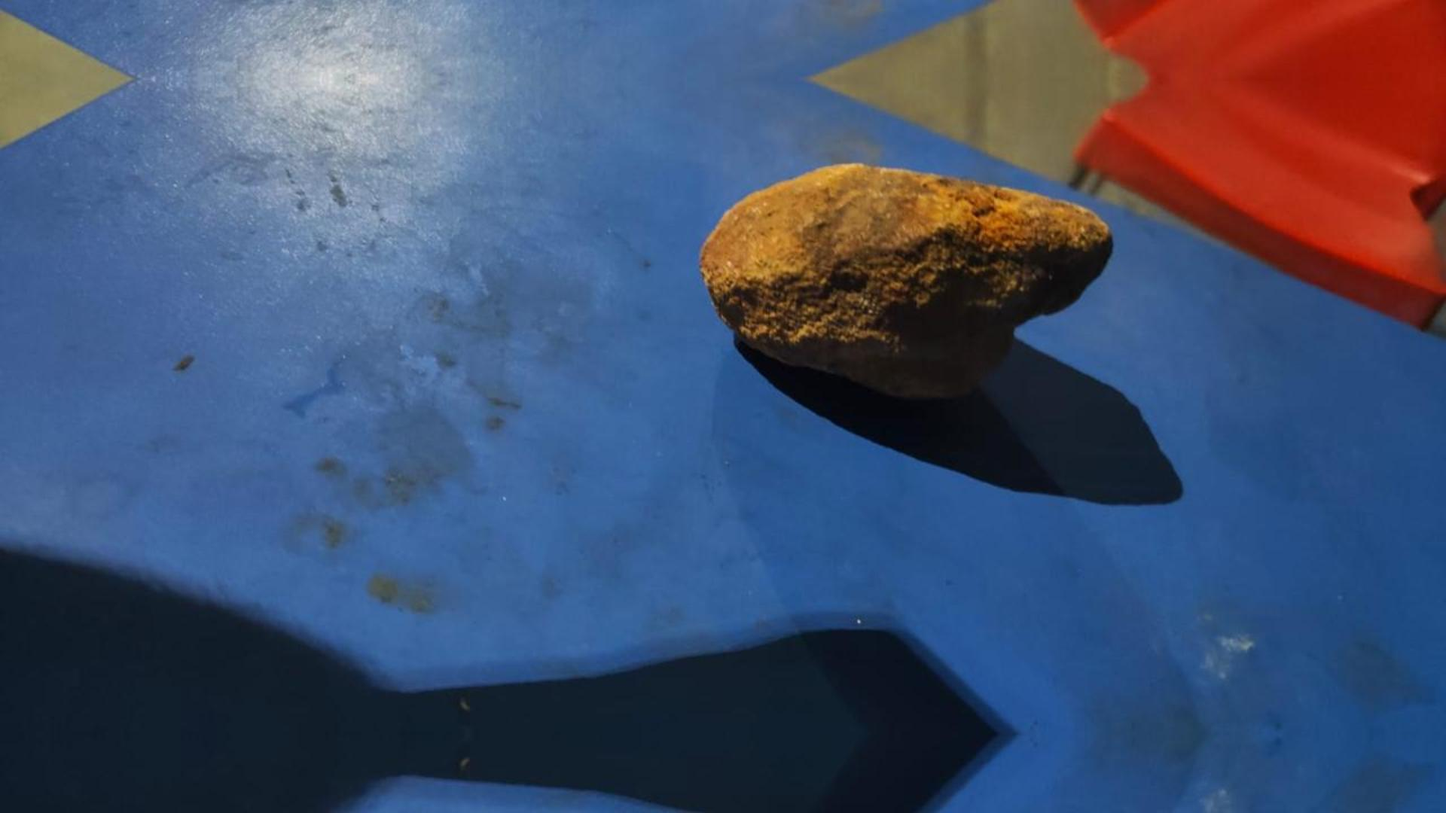rock: (700, 164, 1110, 397)
